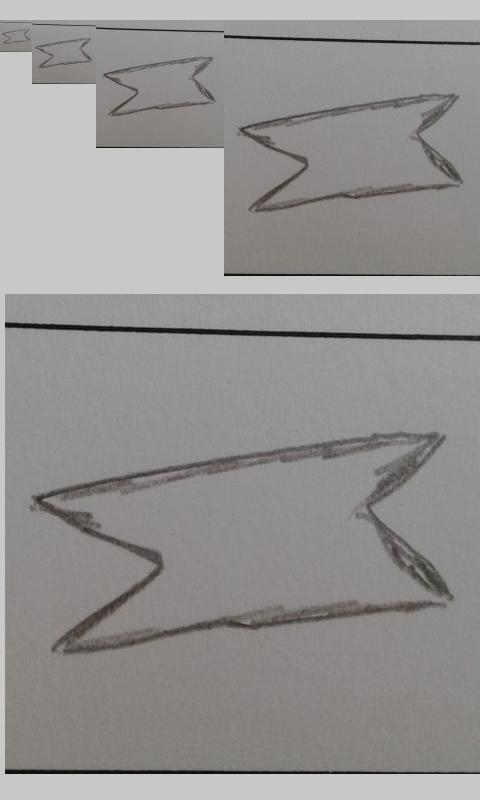edit_text: (33, 429, 458, 659), (238, 92, 463, 215), (103, 55, 216, 117), (35, 37, 93, 68), (2, 28, 31, 44)
